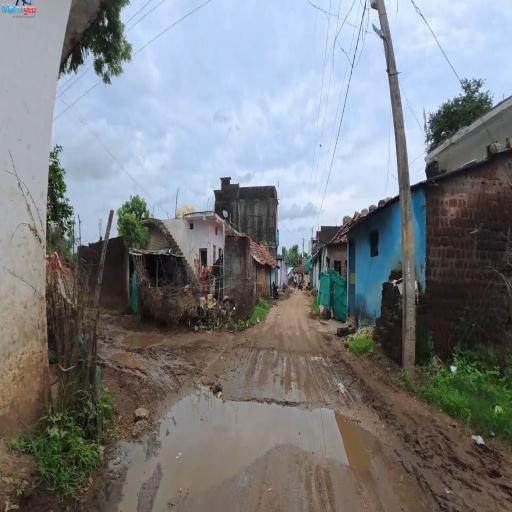longitudinal_crack: (206, 372, 344, 422)
